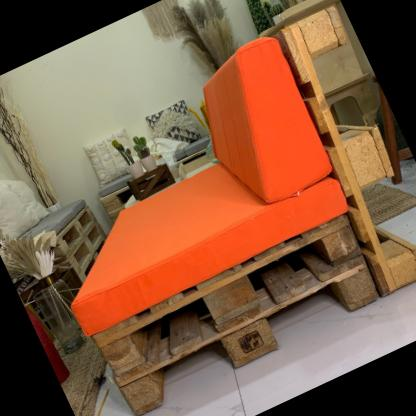BoxFace: (91, 214, 364, 378), (279, 0, 416, 296), (113, 265, 380, 416)
